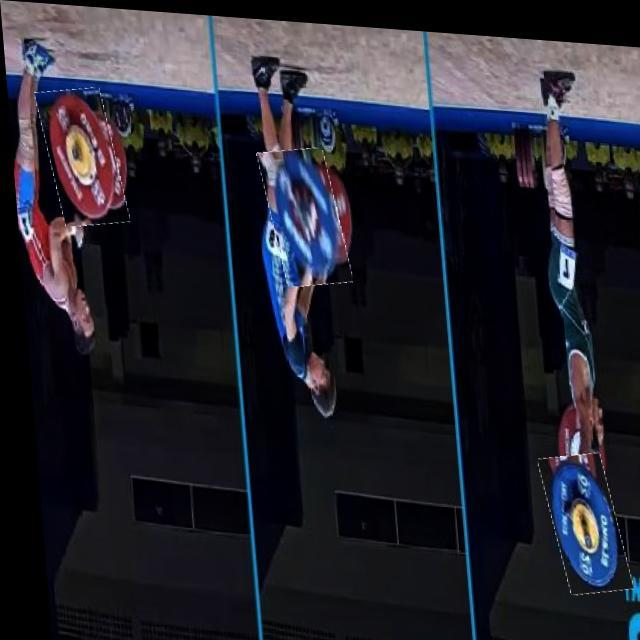barbell: (259, 143, 345, 285), (38, 85, 123, 228), (536, 444, 620, 588)
